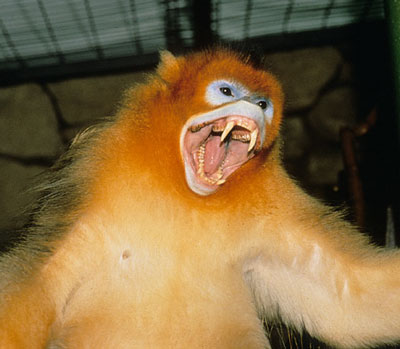GoldenSnub-Nosed: (84, 44, 294, 347)
